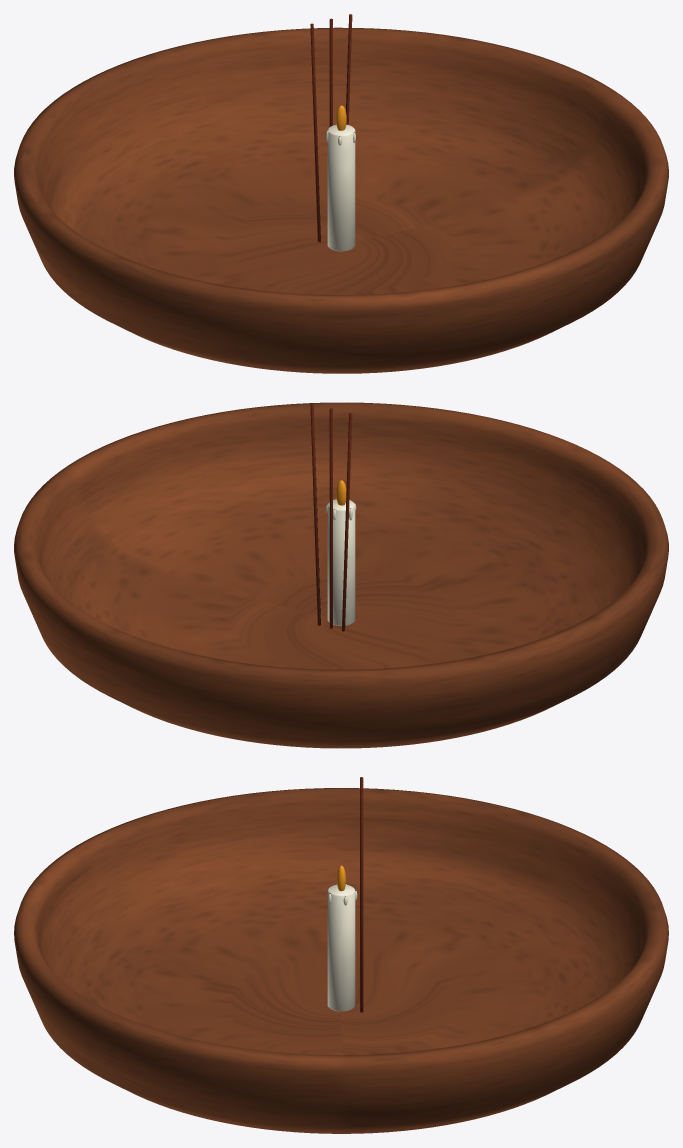
File: krathong.glb
The picture shows the model from 3 angles, top to bottom: view 1: azimuth 30°, elevation 25°; view 2: azimuth 150°, elevation 25°; view 3: azimuth 270°, elevation 25°; orthographic projection.
Parts seen in each view (by area): view 1: Krathong_WebMesh; view 2: Krathong_WebMesh; view 3: Krathong_WebMesh.
Boxes of the visible parts, x1,y1,x2,y2 form: Krathong_WebMesh: (14, 14, 668, 373); Krathong_WebMesh: (14, 402, 668, 748); Krathong_WebMesh: (14, 777, 668, 1133).
Bounding box in the file's own units: 0.26 × 0.1037 × 0.26.
1 material, 1 textured.
